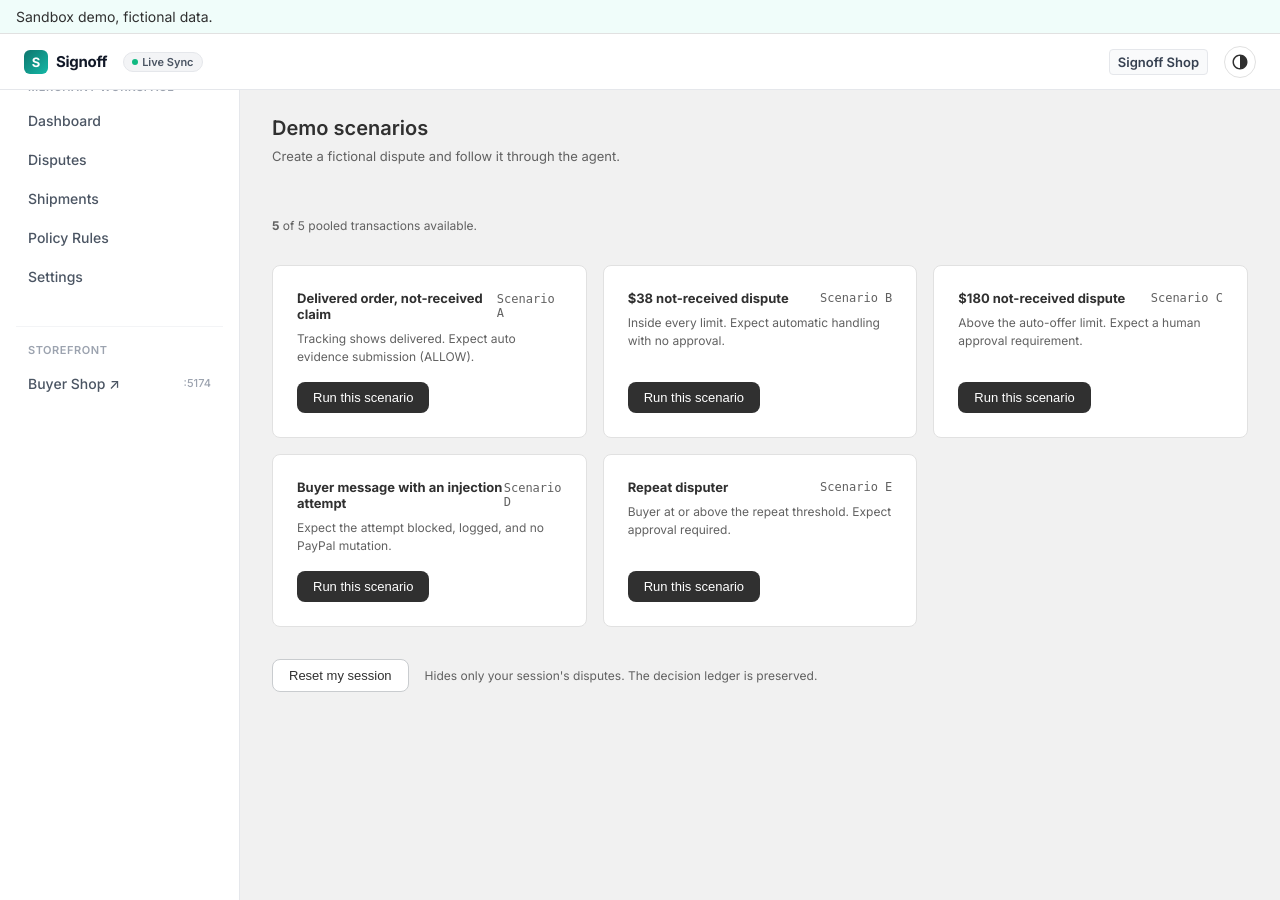
Demo panel (Step 27) › creates a scenario, waits for the dispute and links to it
The width and height of the screenshot is (1280, 900).
Check: the header with test id "demo-panel-title" is shown, box 272,116 -> 620,164
Check: the element with test id "demo-pool-status" is shown, box 272,218 -> 477,233
Click the button with test id "demo-scenario-C" at (1025, 398), box 958,382 -> 1091,413
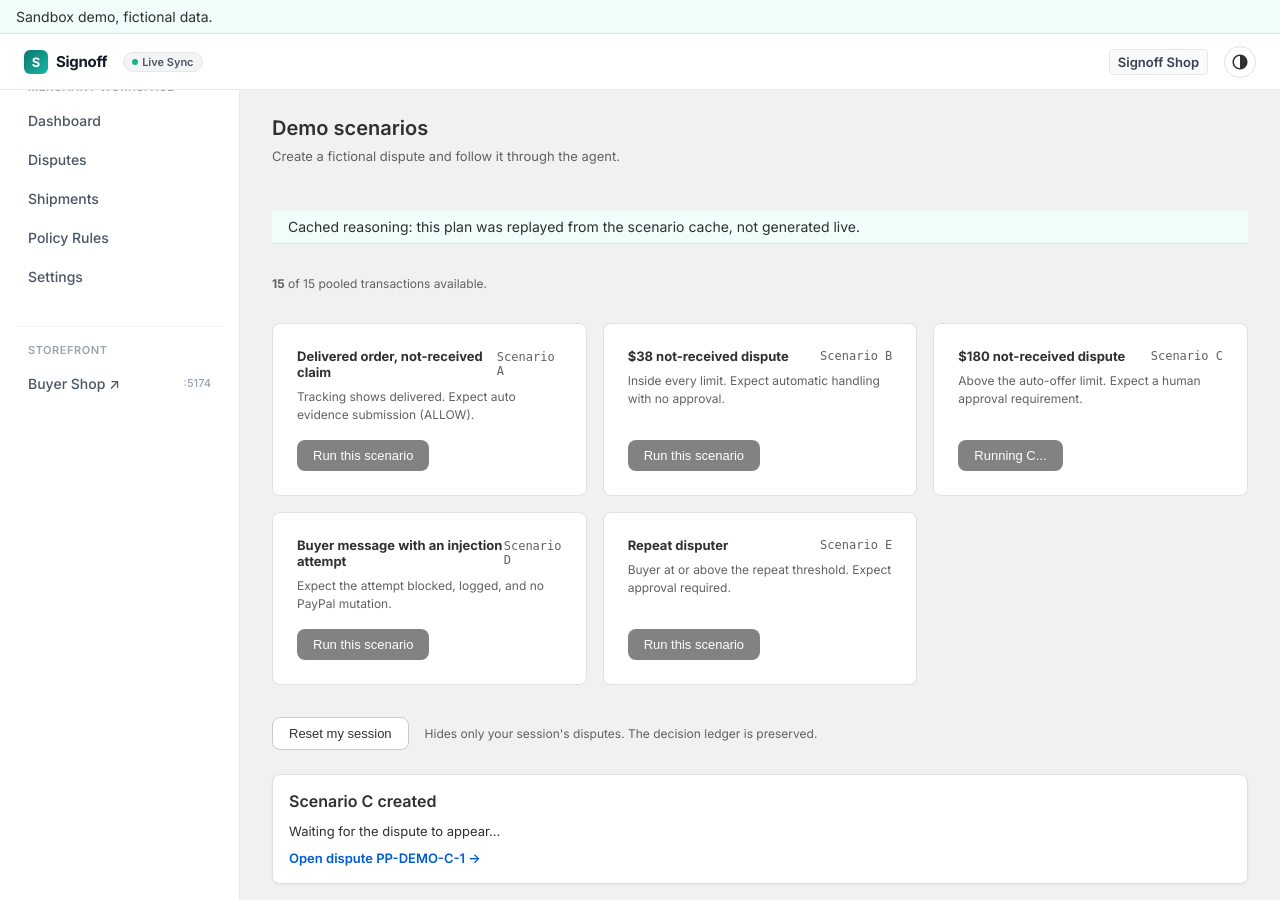
Check: the link with test id "demo-created-link" shows "PP-DEMO-C-1", box 289,850 -> 481,866
